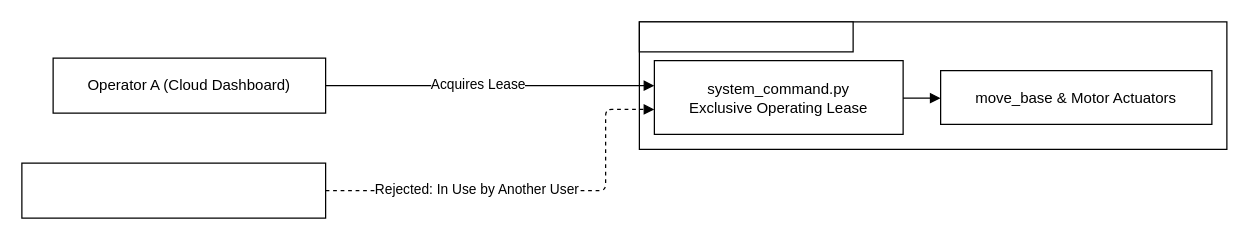
The diagram is 1249 pixels wide and 240 high, and some of its shapes have lost their labels. The shapes that lost their labels are listed below. From the top down, each one's centre as x and y in pixels, then its label:
At point 745,36: "Physical Robot (Jetson SBC)".
At point 173,190: "Operator B (Local LAN Dashboard)".
